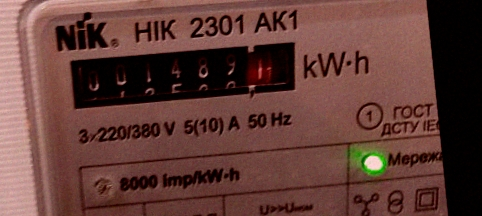0: (110, 60, 129, 86), (84, 67, 101, 93)
1: (139, 56, 156, 87), (251, 51, 266, 82)
4: (166, 54, 185, 82)
8: (192, 52, 212, 80)
9: (221, 51, 238, 77)
screen: (53, 26, 315, 127)
